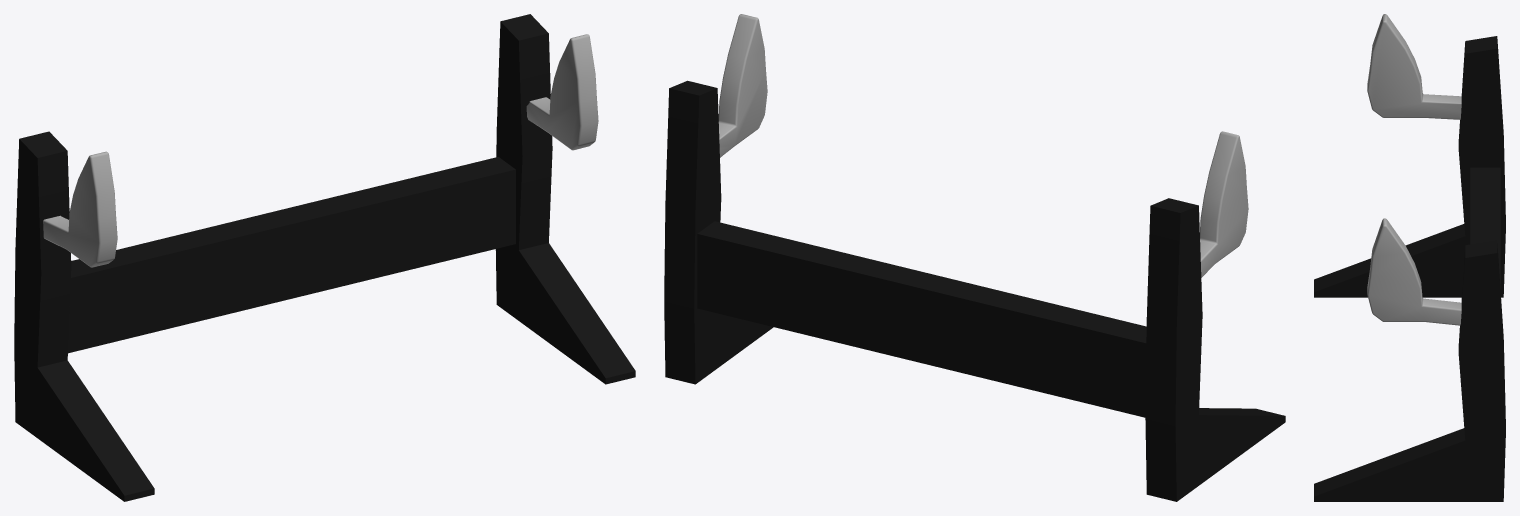
Rendered from Stand2.glb.
3 renders of one model, left to right at view 1: azimuth 30°, elevation 25°; view 2: azimuth 150°, elevation 25°; view 3: azimuth 270°, elevation 25°, orthographic. The views are drawn at different scales.
Parts seen in each view (by area): view 1: pCube3.001; view 2: pCube3.001; view 3: pCube3.001.
Boxes of the visible parts, x1,y1,x2,y2 form: pCube3.001: (14, 14, 635, 501); pCube3.001: (664, 14, 1285, 501); pCube3.001: (1314, 14, 1505, 501).
Size of the model in its own units: 0.3137 by 0.1846 by 0.1172.
2 materials, 1 textured.
